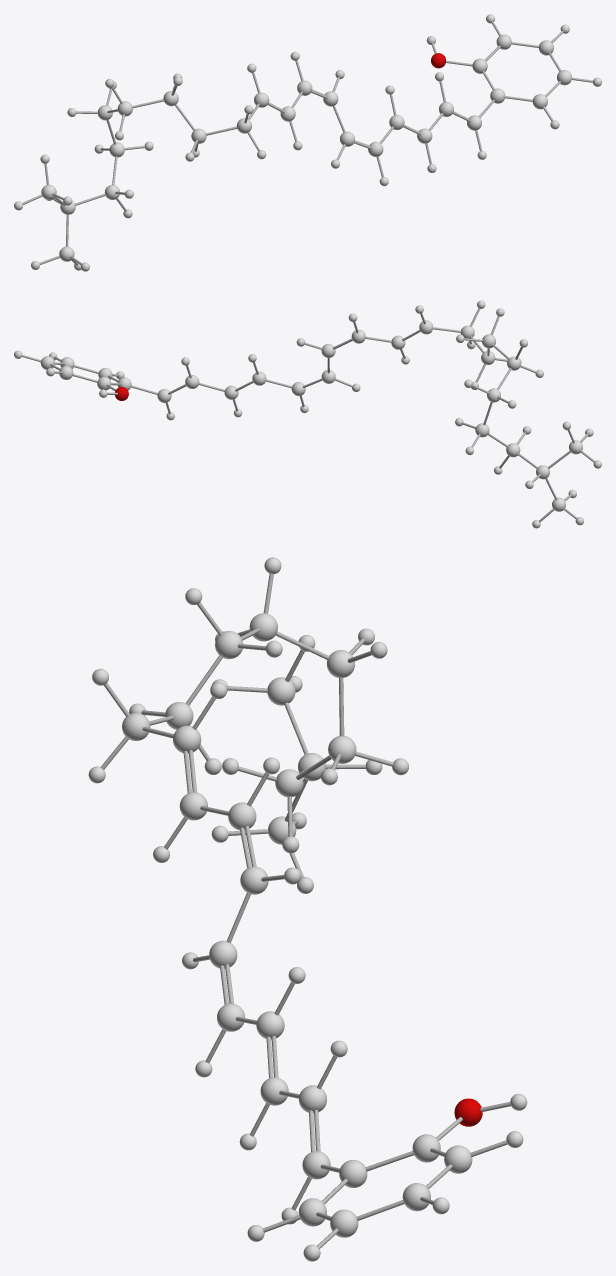
Rendered from CC_C_CCCCCCCC_CC_CC_CC_CC_CC1_CC_CC_C1O.glb.
3 views of the same model, one above another, from view 1: azimuth 30°, elevation 25°; view 2: azimuth 150°, elevation 25°; view 3: azimuth 270°, elevation 25° (orthographic). The views are drawn at different scales.
Visible parts, largest first — view 1: world; view 2: world; view 3: world.
Boxes of the visible parts, x1=… form: world: x1=14, y1=14, x2=601, y2=271; world: x1=14, y1=300, x2=601, y2=528; world: x1=88, y1=557, x2=527, y2=1261.
Size of the model in its own units: 22.43 by 7.15 by 7.74.
